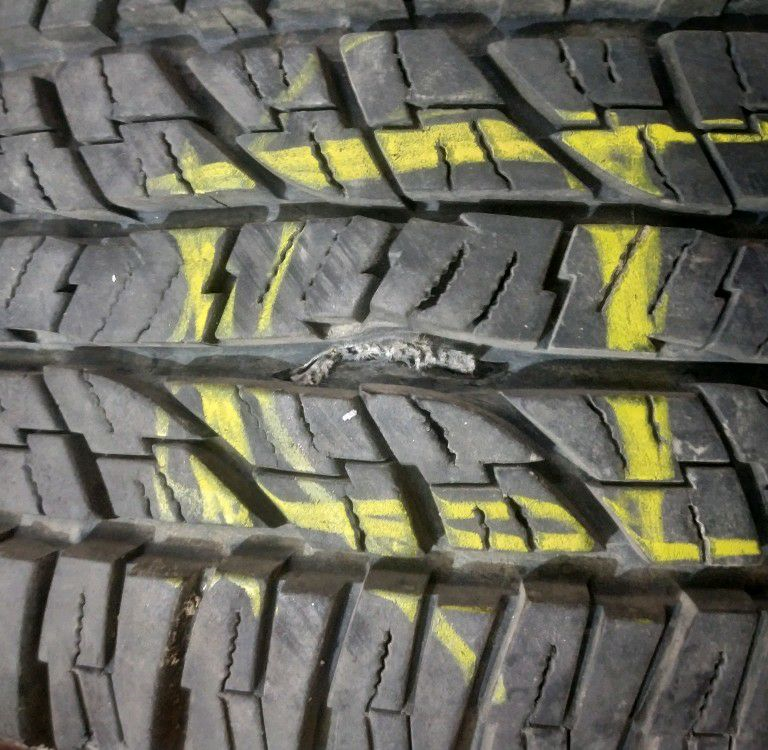tr: (260, 333, 513, 393)
